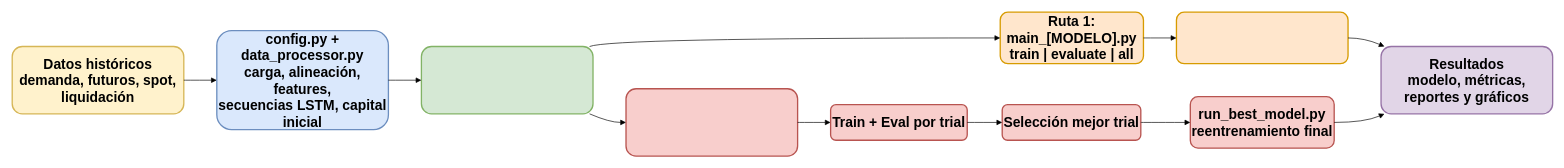
The diagram is 1564 pixels wide and 168 high, and some of its shapes have lost their labels. Here are the shapes that lost their labels. From the top down, the centre of each, then its label:
At (x=1261, y=37): "Entrenamiento y/o evaluación directa".
At (x=506, y=80): "Núcleo RL environment.py + [MODELO]_agent.py".
At (x=711, y=122): "Ruta 2: tune_[MODELO].py random search de hiperparámetros".
